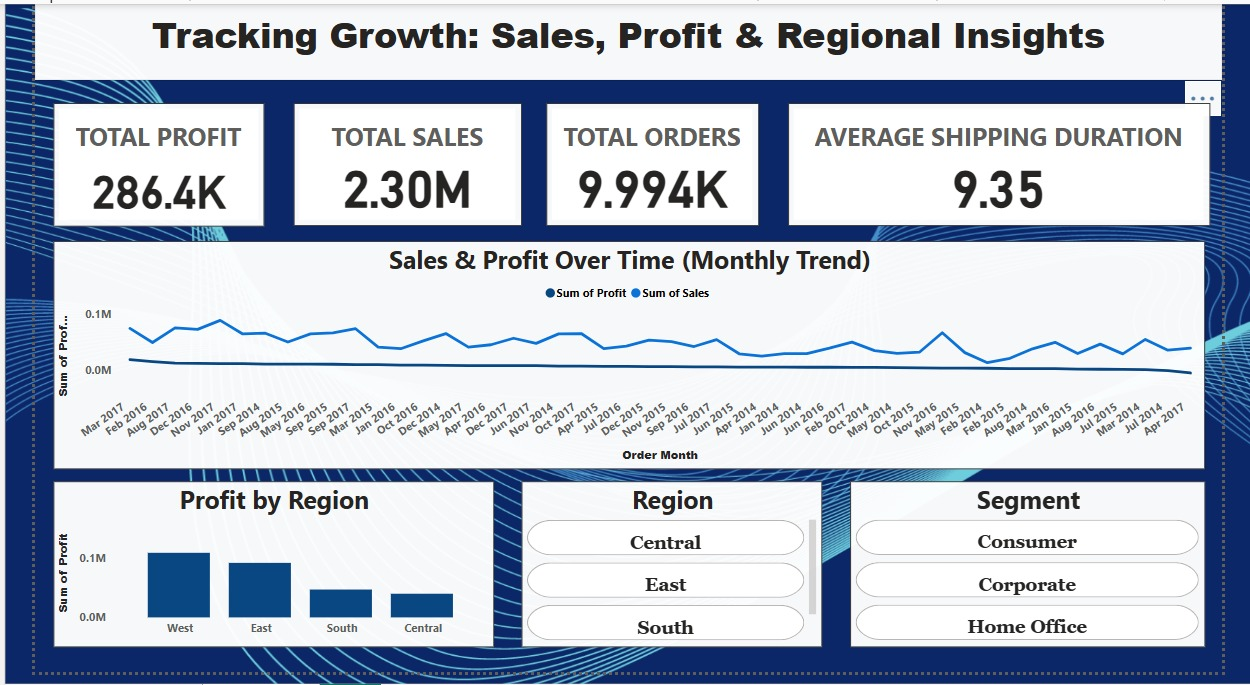

The page's visual inventory and layout, read from the dashboard file:
{"tool":"powerbi","page":{"name":"Tracking Growth: Sales, Profit & Regional Insights","canvas":[1280,720],"ordinal":0},"visuals":[{"type":"textbox","box":[0,0,1280,81.9],"z":0},{"type":"cardVisual","title":"TOTAL PROFIT","fields":{"Data":["Sum(Sample - Superstore.Profit)"]},"box":[30.1,106.9,227.3,132],"z":1},{"type":"cardVisual","fields":{"Data":["Sum(Sample - Superstore.Sales)"]},"box":[279.1,106.9,245.6,132],"z":3},{"type":"cardVisual","fields":{"Data":["CountNonNull(Sample - Superstore.Order ID)"]},"box":[551.5,106.9,228.9,132],"z":4},{"type":"cardVisual","fields":{"Data":["Avg(Sample - Superstore.Shipping Duration)"]},"box":[812.1,106.9,454.5,132],"z":5},{"type":"lineChart","title":"Sales & Profit Over Time (Monthly Trend)","fields":{"Y":["Sum(Sample - Superstore.Profit)","Sum(Sample - Superstore.Sales)"],"Category":["Sample - Superstore.Order Month"]},"box":[20.1,255.7,1241.6,245.6],"z":6},{"type":"columnChart","title":"Profit by Region","fields":{"Category":["Sample - Superstore.Region"],"Y":["Sum(Sample - Superstore.Profit)"]},"box":[20.1,514.7,474.6,178.8],"z":7},{"type":"advancedSlicerVisual","fields":{"Values":["Sample - Superstore.Region"]},"box":[524.7,514.7,324.2,178.8],"z":8},{"type":"advancedSlicerVisual","fields":{"Values":["Sample - Superstore.Segment"]},"box":[879,514.7,382.7,178.8],"z":9}]}

Visuals, with their boxes in screenshot pixels (x1, y1, x2, y2), scaled from the page's 1280x720 canvas onto the 1250x685 screenshot:
textbox: <box>0,0,1249,78</box>
"TOTAL PROFIT" cardVisual: <box>29,102,251,227</box>
cardVisual - Sum(Sample - Superstore.Sales): <box>273,102,512,227</box>
cardVisual - CountNonNull(Sample - Superstore.Order ID): <box>539,102,762,227</box>
cardVisual - Avg(Sample - Superstore.Shipping Duration): <box>793,102,1237,227</box>
"Sales & Profit Over Time (Monthly Trend)" lineChart: <box>20,243,1232,477</box>
"Profit by Region" columnChart: <box>20,490,483,660</box>
advancedSlicerVisual - Sample - Superstore.Region: <box>512,490,829,660</box>
advancedSlicerVisual - Sample - Superstore.Segment: <box>858,490,1232,660</box>
